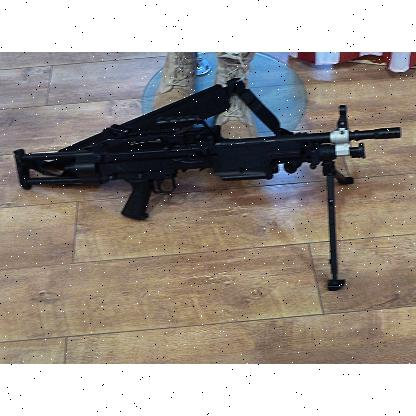gun: (13, 77, 402, 291)
